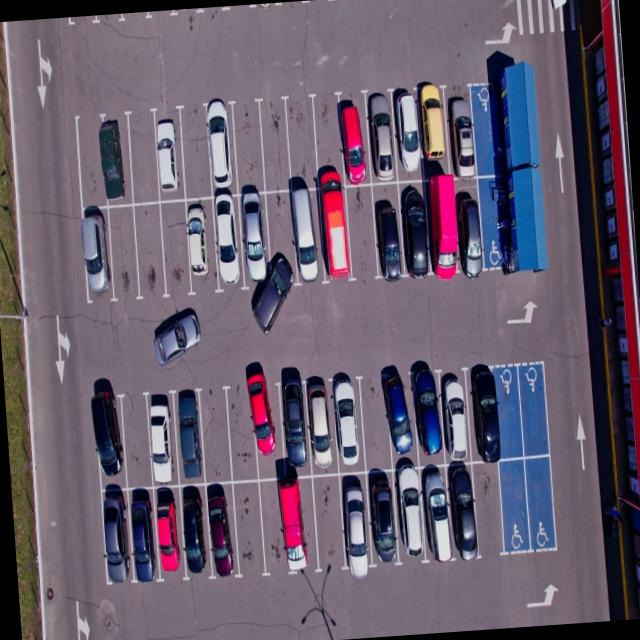car: (278, 472, 320, 576), (250, 376, 288, 478), (421, 174, 460, 273), (97, 110, 136, 208), (152, 106, 191, 203), (329, 373, 368, 470), (360, 467, 399, 564), (336, 472, 374, 570), (302, 375, 340, 472), (202, 480, 240, 576), (144, 392, 182, 488), (207, 193, 245, 289), (181, 196, 219, 292), (77, 206, 114, 304), (389, 467, 427, 562), (173, 386, 210, 483), (278, 378, 314, 477), (90, 389, 126, 488), (410, 366, 446, 464), (237, 190, 274, 284), (287, 187, 324, 281), (203, 102, 239, 198), (436, 366, 472, 462), (382, 370, 417, 468), (317, 184, 353, 278), (442, 460, 477, 556), (369, 180, 404, 276), (419, 462, 454, 557), (391, 85, 426, 179), (152, 482, 186, 578), (180, 485, 214, 581), (398, 178, 432, 274), (336, 92, 371, 185), (363, 91, 398, 184), (469, 367, 503, 462), (126, 485, 160, 578), (416, 86, 450, 178), (98, 488, 132, 580), (458, 176, 487, 274), (449, 86, 479, 177)
free: (308, 472, 348, 575), (177, 104, 216, 202), (130, 201, 169, 299), (222, 383, 260, 482), (124, 109, 162, 206), (118, 392, 156, 488), (105, 202, 142, 300), (159, 198, 196, 296), (197, 385, 234, 482), (356, 372, 392, 470), (230, 479, 266, 576), (312, 92, 349, 186), (472, 458, 508, 554), (262, 190, 299, 282), (342, 184, 378, 278), (496, 456, 531, 552), (232, 100, 268, 193), (524, 455, 560, 548), (258, 475, 291, 576), (72, 116, 108, 206), (518, 362, 552, 457), (282, 96, 316, 190), (492, 364, 524, 463), (258, 98, 292, 190)
